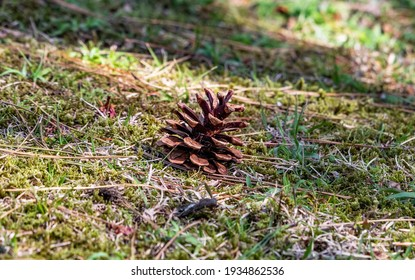Pc: (163, 88, 244, 175)
